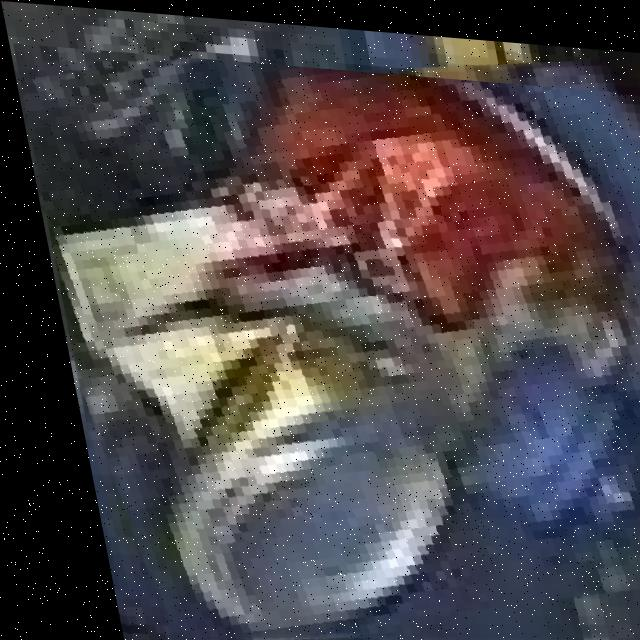litter: (44, 60, 640, 636)
